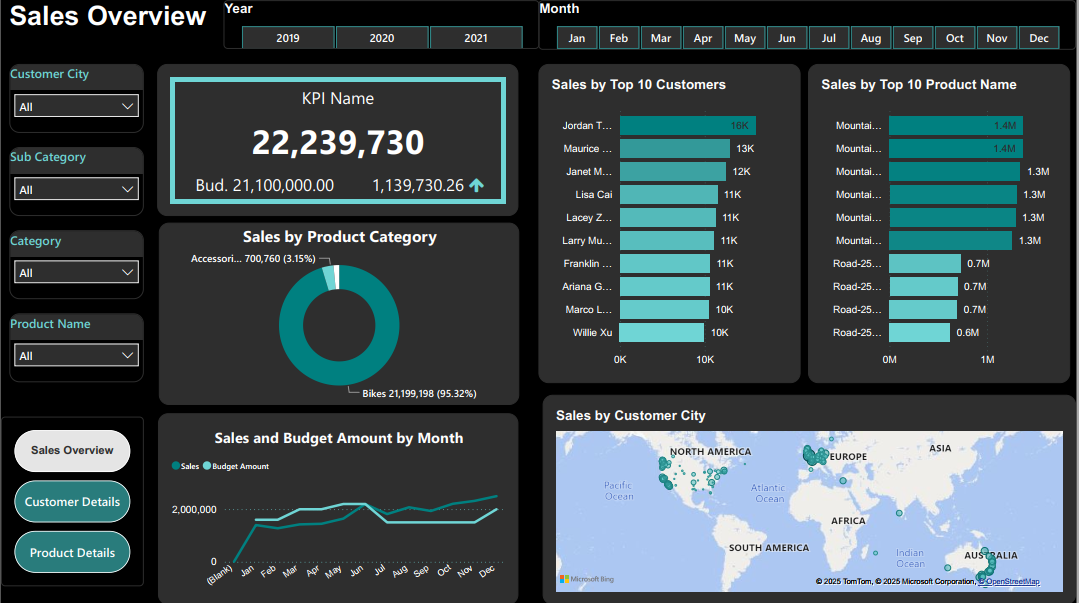

What the dashboard file says about the page in this screenshot:
{"tool":"powerbi","page":{"name":"Sales Overview","canvas":[1280,720],"ordinal":0},"visuals":[{"type":"textbox","box":[10.1,0,1269.9,58.8],"z":0},{"type":"slicer","title":"Customer City","fields":{"Values":["DIM_Customers.Customer City"]},"box":[10.1,75.6,159.6,82.3],"z":1000},{"type":"slicer","title":"Sub Category","fields":{"Values":["DIM_Products.Sub Category"]},"box":[10.1,174.7,159.6,82.3],"z":2000},{"type":"slicer","title":"Category","fields":{"Values":["DIM_Products.Product Category"]},"box":[10.1,273.8,159.6,82.3],"z":3000},{"type":"slicer","title":"Product Name","fields":{"Values":["DIM_Products.Product Name"]},"box":[10.1,372.9,159.6,82.3],"z":4000},{"type":"slicer","title":"Year","fields":{"Values":["DIM_Calendar.Year"]},"box":[265,0,375.6,58.1],"z":5000},{"type":"slicer","title":"Month","fields":{"Values":["DIM_Calendar.MonthShort"]},"box":[640,0,640,58.8],"z":6000},{"type":"BBED0A4D4D8D44CE93CF2DAFADEE466C","fields":{"actual":["FACT_InternetSales.Sales"],"target1":["Fact_budget.Budget Amount"],"target2":["Key Measures.Sales - Budget"]},"box":[186.5,75.6,430,181.4],"z":7000},{"type":"donutChart","fields":{"Category":["DIM_Products.Product Category"],"Y":["Key Measures.Sales"]},"box":[188,265,429.4,216.8],"z":8000},{"type":"lineChart","fields":{"Category":["DIM_Calendar.MonthShort"],"Y":["Key Measures.Sales","Key Measures.Budget Amount"]},"box":[187.1,491.8,429.4,228.2],"z":9000},{"type":"barChart","title":"Sales by Top 10 Customers","fields":{"Y":["Key Measures.Sales"],"Category":["DIM_Customers.Full Name"]},"box":[640,75.6,312.4,379.6],"z":10000},{"type":"barChart","title":"Sales by Top 10  Product Name","fields":{"Y":["Key Measures.Sales"],"Category":["DIM_Products.Product Name"]},"box":[960.8,75.6,312.4,379.6],"z":11000},{"type":"map","fields":{"Category":["DIM_Customers.Customer City"],"Size":["Key Measures.Sales"]},"box":[645,470.3,635,250.3],"z":12000},{"type":"pageNavigator","box":[0,495.5,169.7,201.6],"z":12001}]}

Visuals, with their boxes in screenshot pixels (x1, y1, x2, y2), scaled from the page's 1280x720 canvas onto the 1079x603 screenshot:
textbox: (9, 0, 1078, 49)
"Customer City" slicer: (9, 63, 143, 132)
"Sub Category" slicer: (9, 146, 143, 215)
"Category" slicer: (9, 229, 143, 298)
"Product Name" slicer: (9, 312, 143, 381)
"Year" slicer: (223, 0, 540, 49)
"Month" slicer: (540, 0, 1078, 49)
BBED0A4D4D8D44CE93CF2DAFADEE466C - FACT_InternetSales.Sales x Fact_budget.Budget Amount: (157, 63, 520, 215)
donutChart - DIM_Products.Product Category x Key Measures.Sales: (158, 222, 520, 404)
lineChart - DIM_Calendar.MonthShort x Key Measures.Sales: (158, 412, 520, 602)
"Sales by Top 10 Customers" barChart: (540, 63, 803, 381)
"Sales by Top 10  Product Name" barChart: (810, 63, 1073, 381)
map - DIM_Customers.Customer City x Key Measures.Sales: (544, 394, 1078, 602)
pageNavigator: (0, 415, 143, 584)
